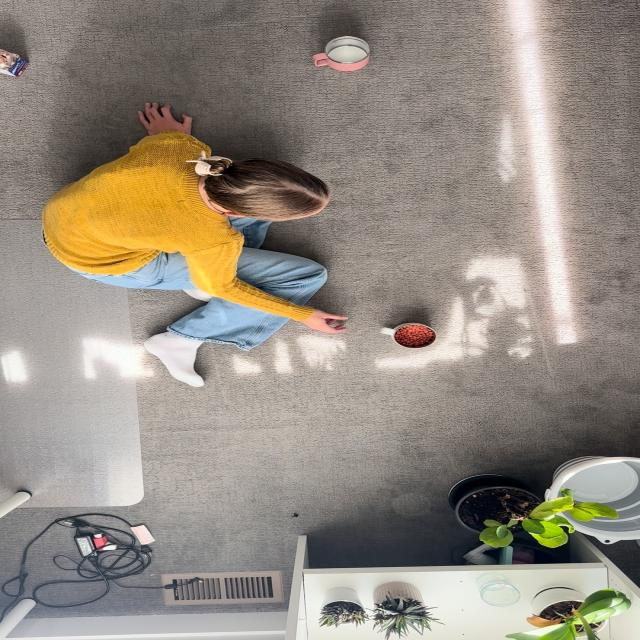IBC: (312, 36, 369, 71), (381, 323, 436, 348)
